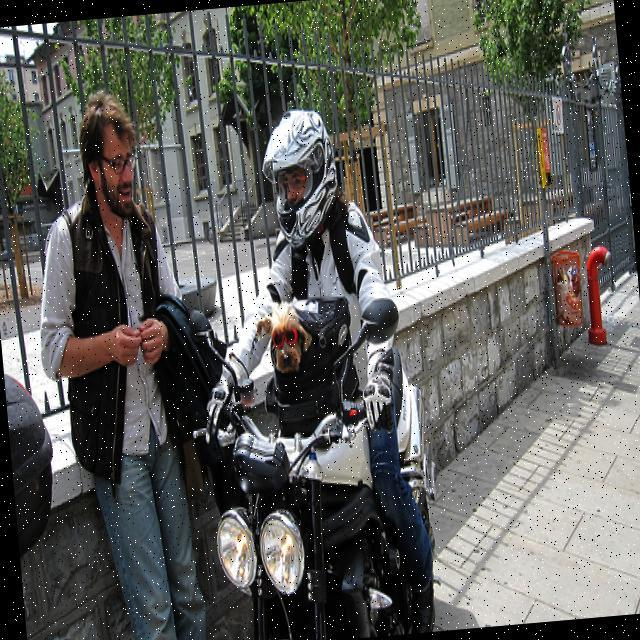fire_hydrant: (577, 242, 619, 344)
